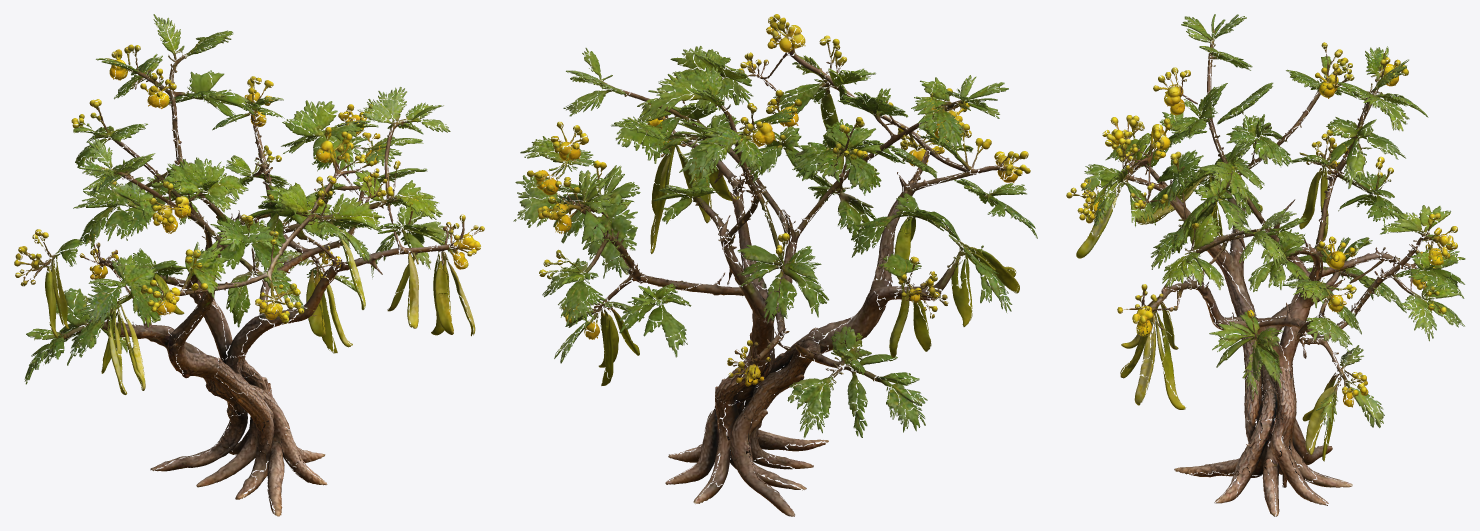
File: sunt.glb
3 views of the same model, side by side, from view 1: azimuth 30°, elevation 25°; view 2: azimuth 150°, elevation 25°; view 3: azimuth 270°, elevation 25° (orthographic). The views are drawn at different scales.
Visible parts, largest first — view 1: tripo_node_8c50f382-ab3c-45aa-8283-f98db079b8b0; view 2: tripo_node_8c50f382-ab3c-45aa-8283-f98db079b8b0; view 3: tripo_node_8c50f382-ab3c-45aa-8283-f98db079b8b0.
Boxes of the visible parts, left/top/right/bottom form: tripo_node_8c50f382-ab3c-45aa-8283-f98db079b8b0: left=14, top=14, right=484, bottom=516; tripo_node_8c50f382-ab3c-45aa-8283-f98db079b8b0: left=513, top=14, right=1037, bottom=516; tripo_node_8c50f382-ab3c-45aa-8283-f98db079b8b0: left=1066, top=14, right=1465, bottom=516.
Size of the model in its own units: 0.9778 by 0.9358 by 0.8276.
Materials: 1 (1 with a texture image).
